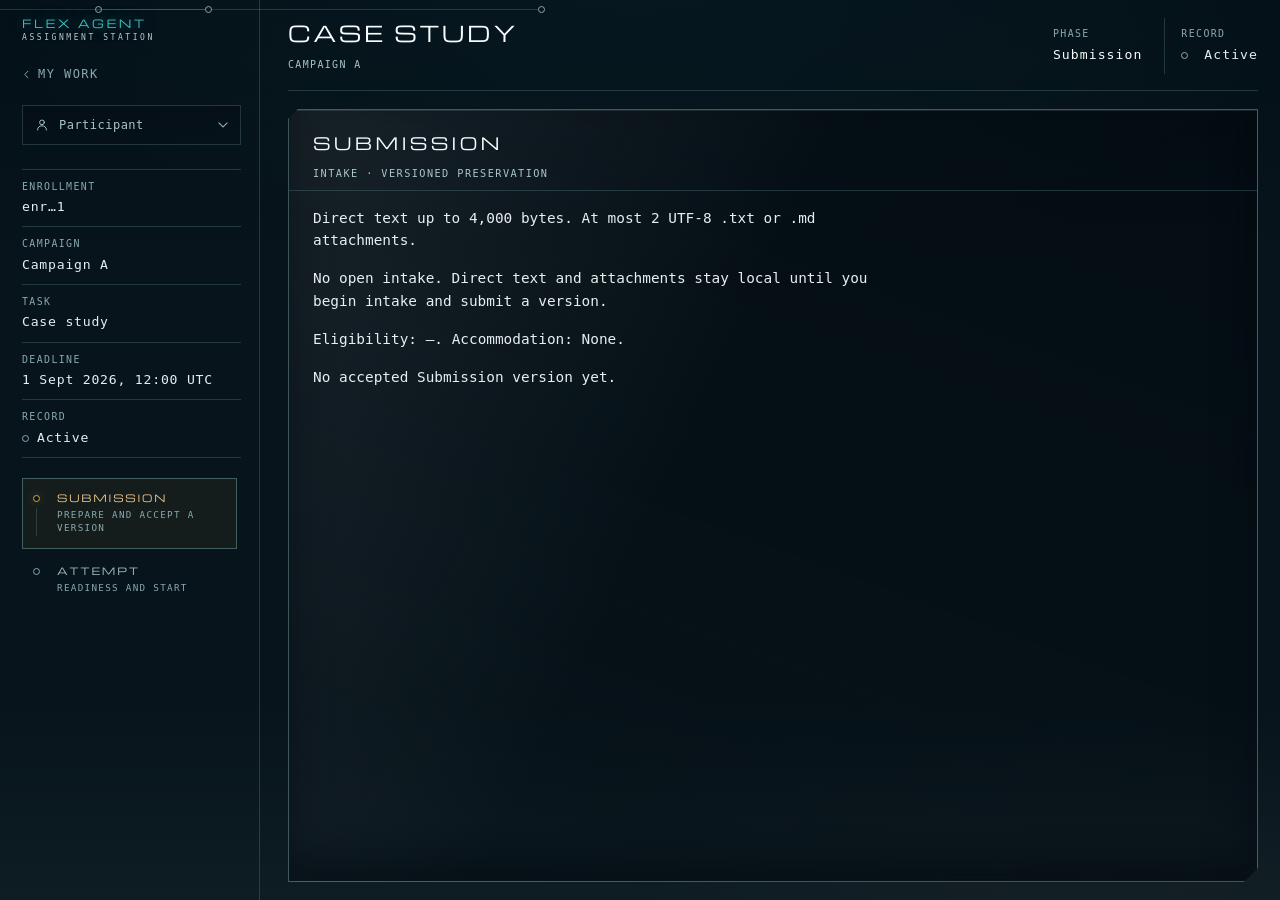
Scenario: ProductionMyWorkDetailPage › treats HTTP 409 start refusal as Attempt did not start
Click the button with aria-label "Attempt —".
click(130, 579)  # box [22,551,237,608]
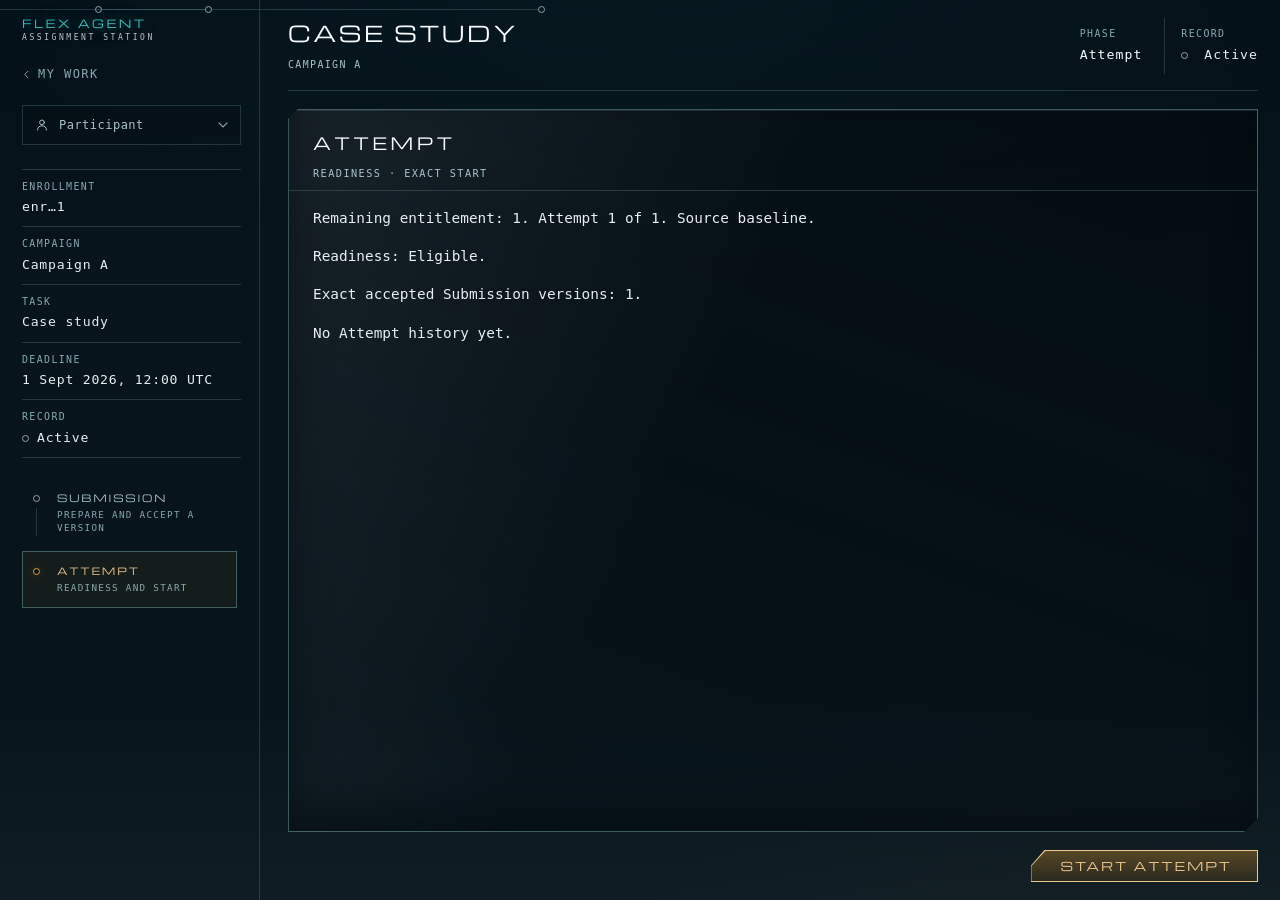
Click the button "Start Attempt".
click(1144, 866)  # box [1030,850,1258,882]
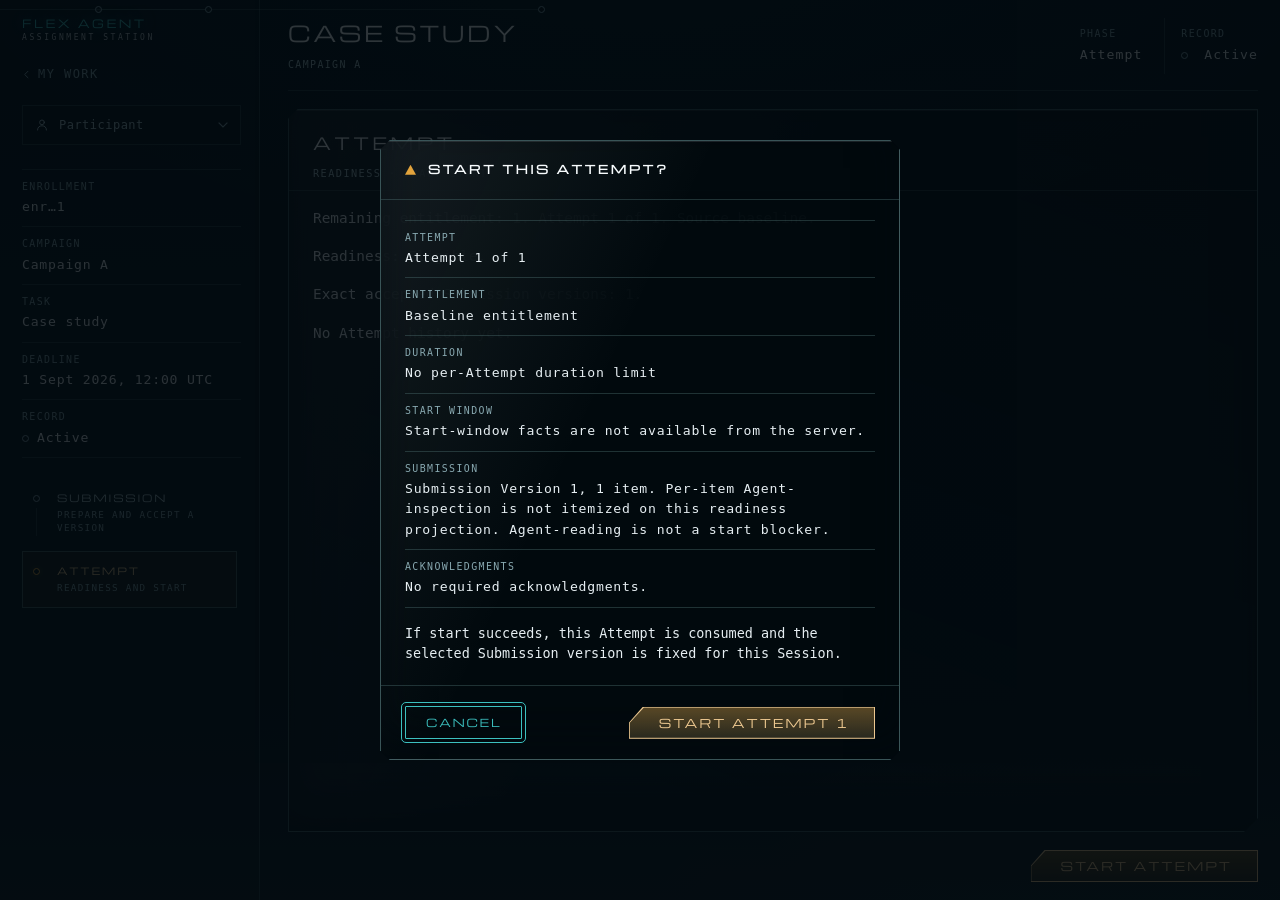
Click the button "Start Attempt 1".
click(752, 723)  # box [629,707,875,739]
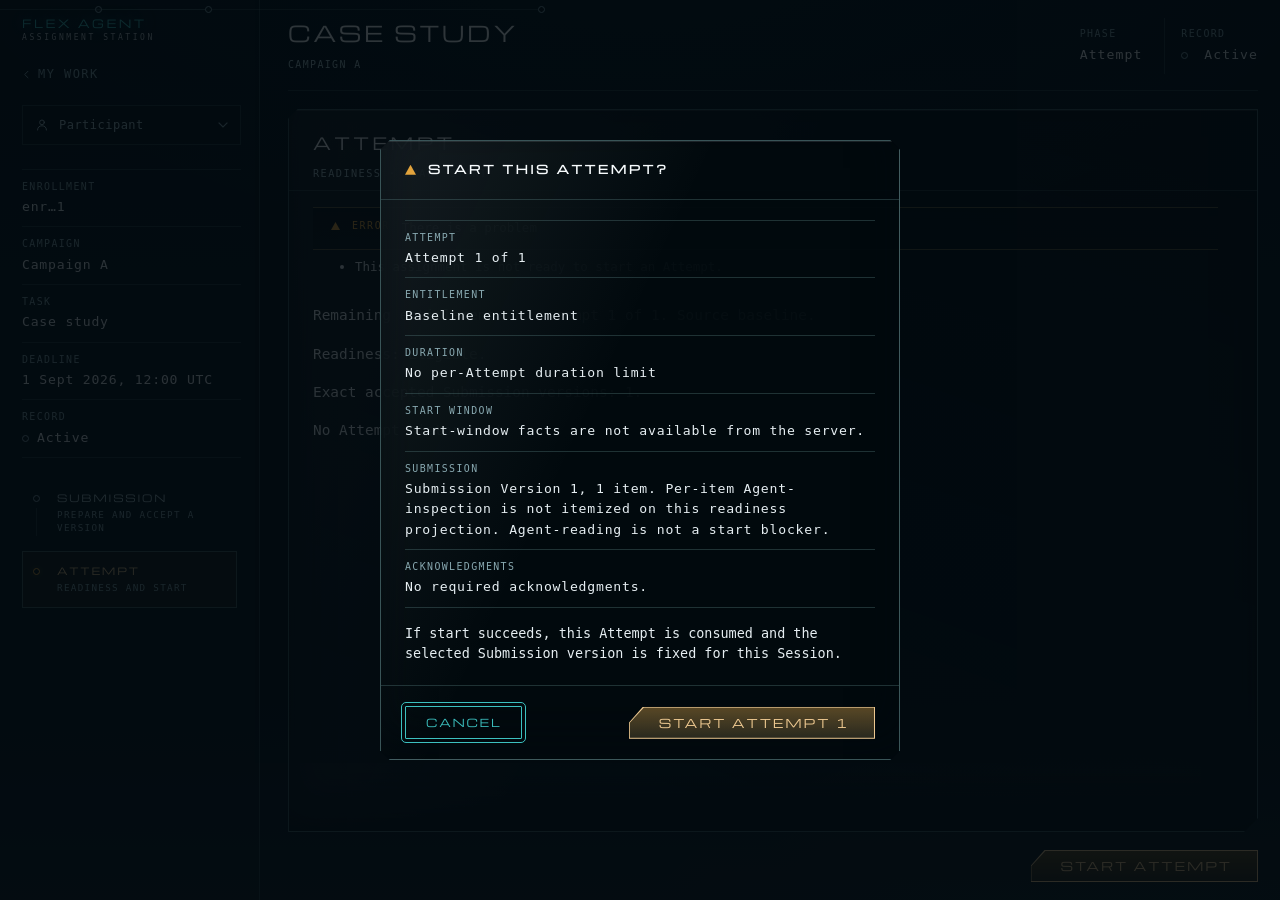
expect the list item "This assignment is not ready to start an Attempt." is shown: met, box [355,259,723,274]
